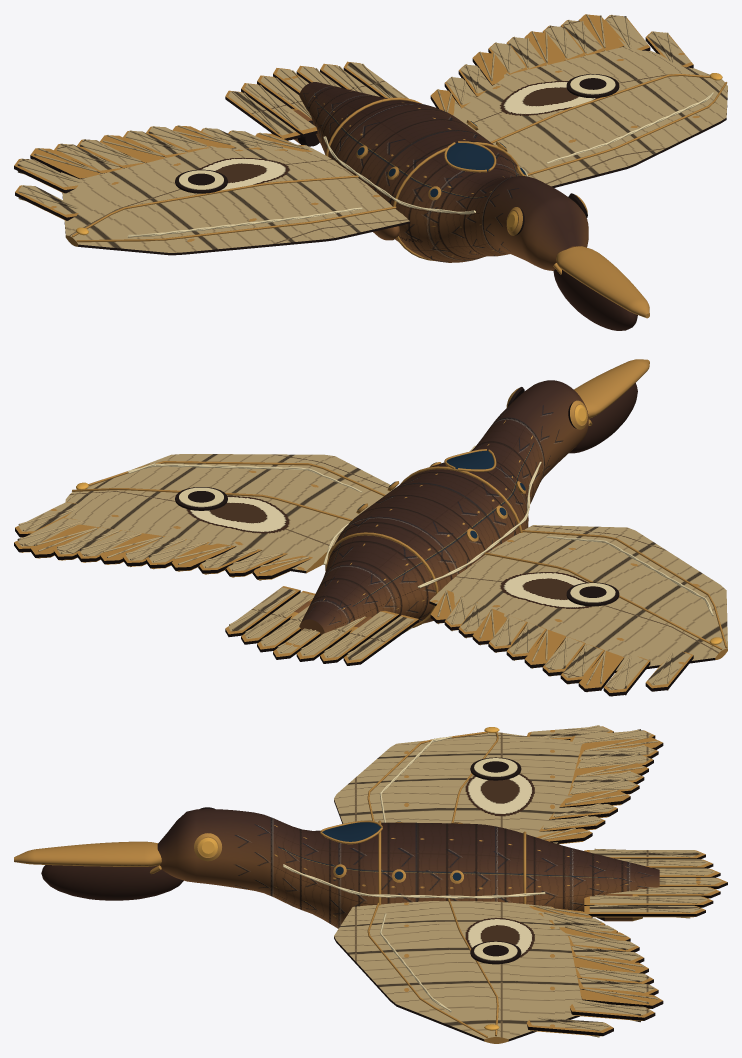
3 renders of one model, top to bottom at view 1: azimuth 30°, elevation 25°; view 2: azimuth 150°, elevation 25°; view 3: azimuth 270°, elevation 25°, orthographic. The views are drawn at different scales.
Parts seen in each view (by area): view 1: pelican_hull; view 2: pelican_hull; view 3: pelican_hull.
Part boxes in pixels (box(x1,y1,x2,y2)): pelican_hull: box(14, 14, 727, 330); pelican_hull: box(14, 359, 727, 696); pelican_hull: box(14, 725, 727, 1043).
Bounding box in the file's own units: 86 × 16.58 × 84.67.
1 material, 1 textured.
